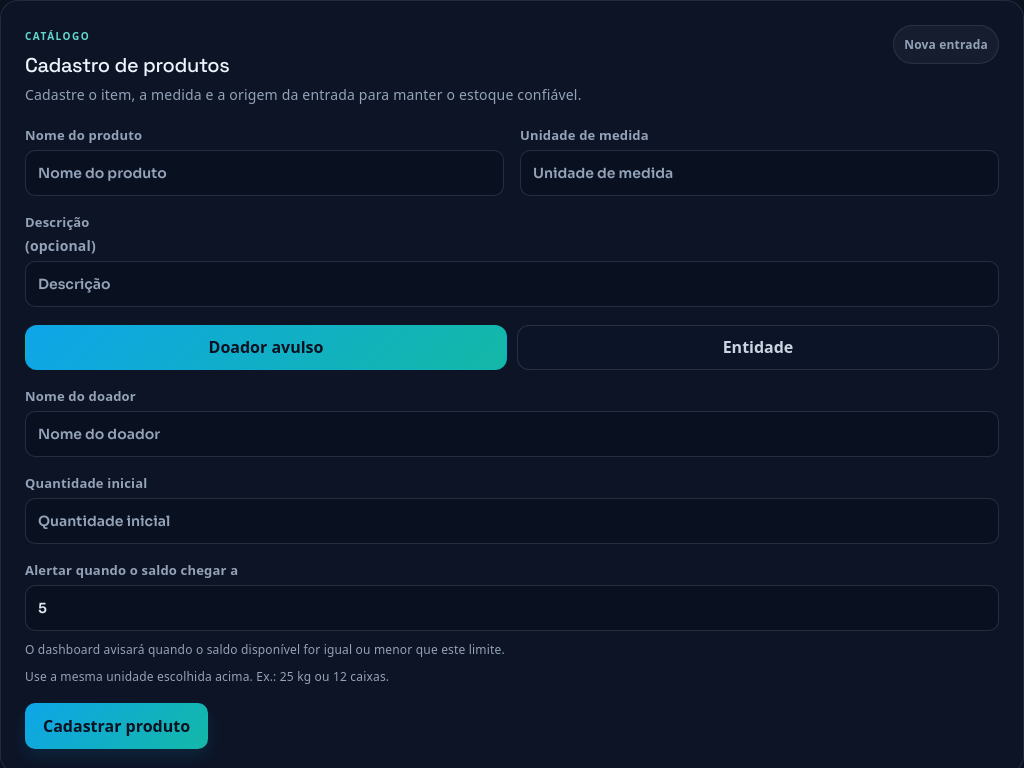
Test: renderiza o formulario e alterna o tipo de doador
This screenshot has width=1024, height=768.
Expected: the field with placeholder "Nome do produto" is shown, top-left (25, 150), bottom-right (504, 196)
Expected: the field with placeholder "Descrição" is shown, top-left (25, 261), bottom-right (999, 307)
Click the button "Entidade" at coordinates (758, 347), box top-left (517, 325), bottom-right (999, 370)
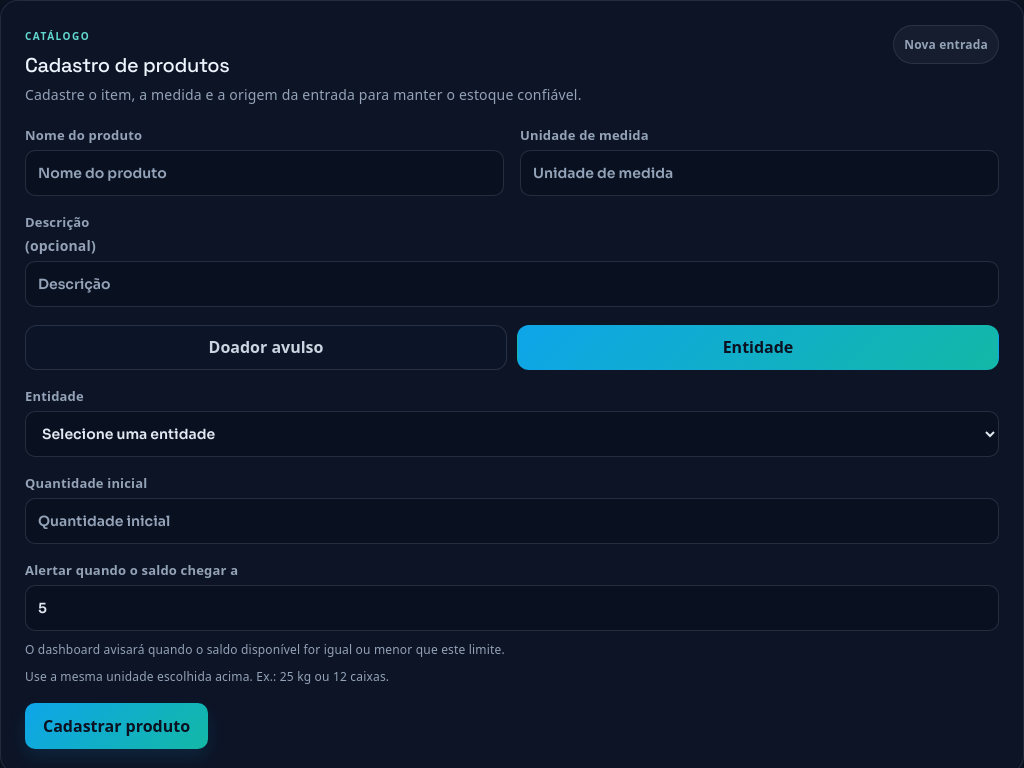
Expected: the dropdown labelled "Entidade" is shown, top-left (25, 411), bottom-right (999, 457)
